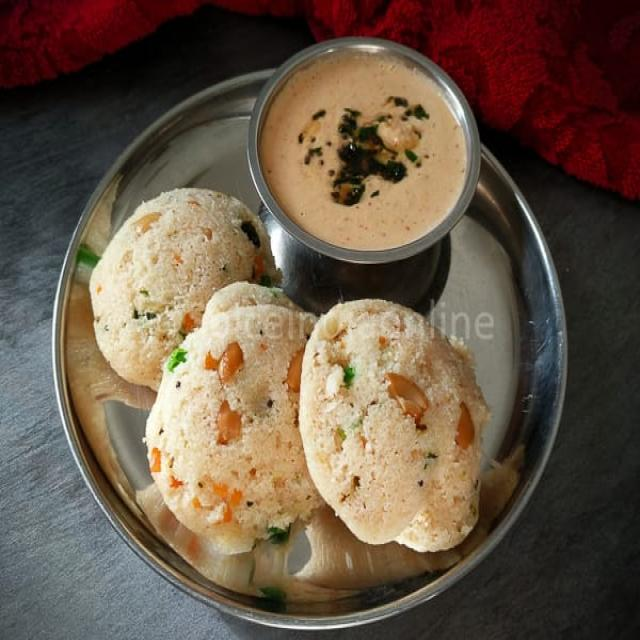rave idli: (299, 284, 491, 573), (124, 301, 328, 553), (81, 173, 273, 384)
